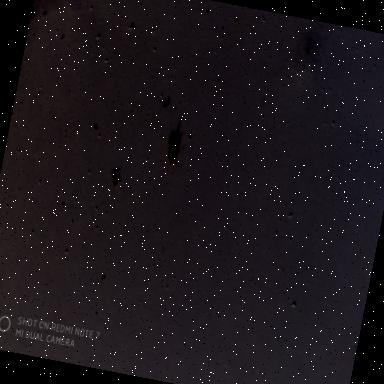pbw: (159, 124, 193, 172)
